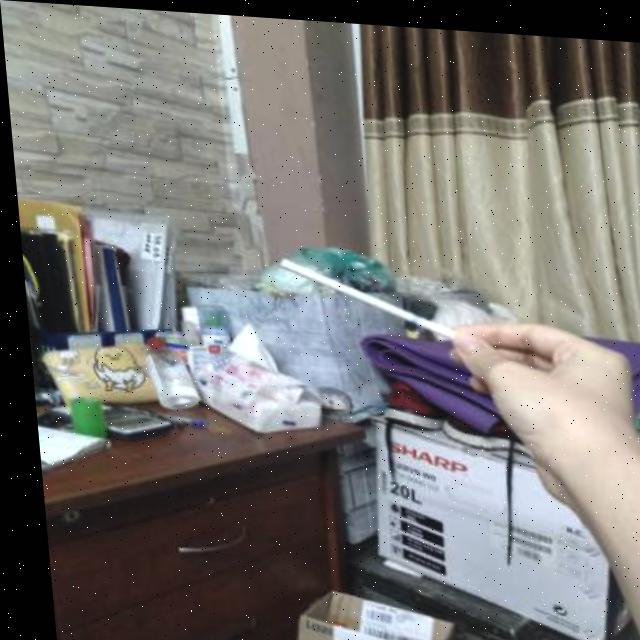cigarette: (273, 253, 451, 333)
